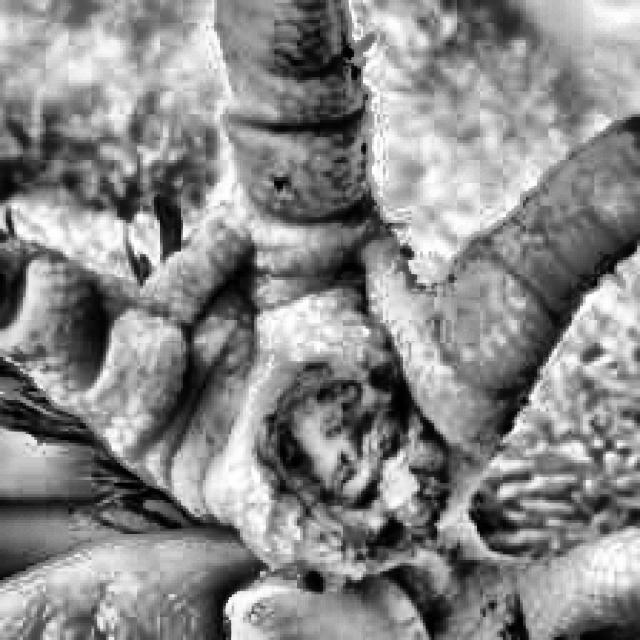Bumble foot: (198, 309, 494, 575)
